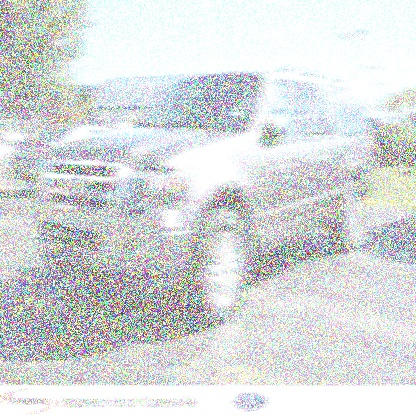Vehicle: (32, 67, 376, 322)
